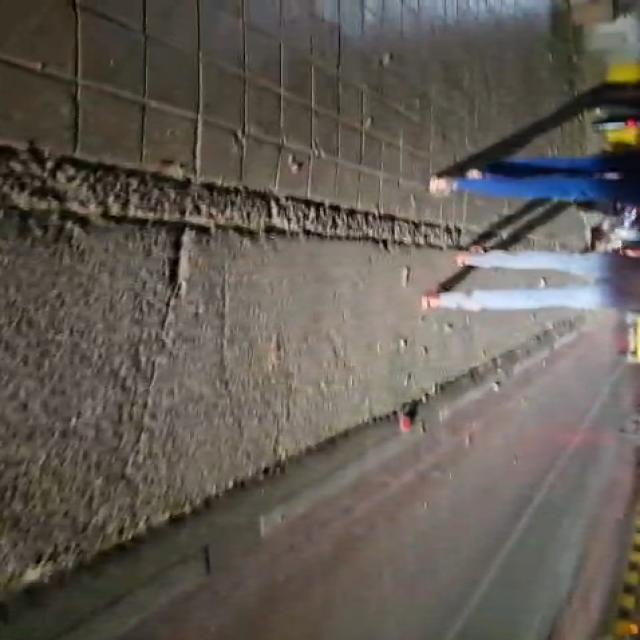bike: (422, 247, 639, 310), (429, 150, 639, 204)
